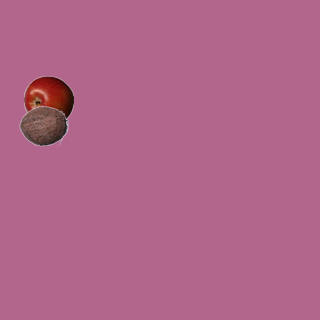Apple Braeburn: (23, 75, 73, 125)
Cocos: (18, 100, 68, 150)
